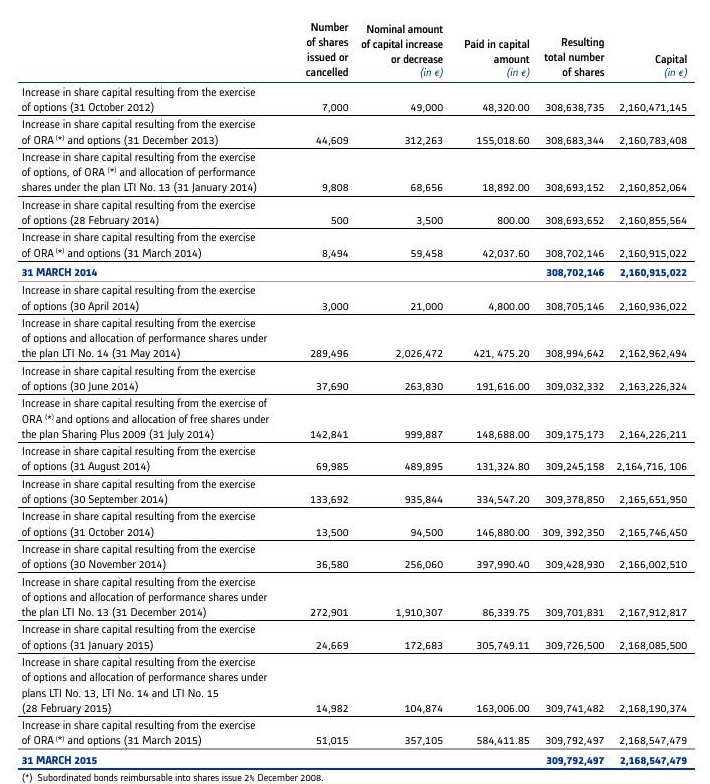table: (0, 0, 710, 784)
